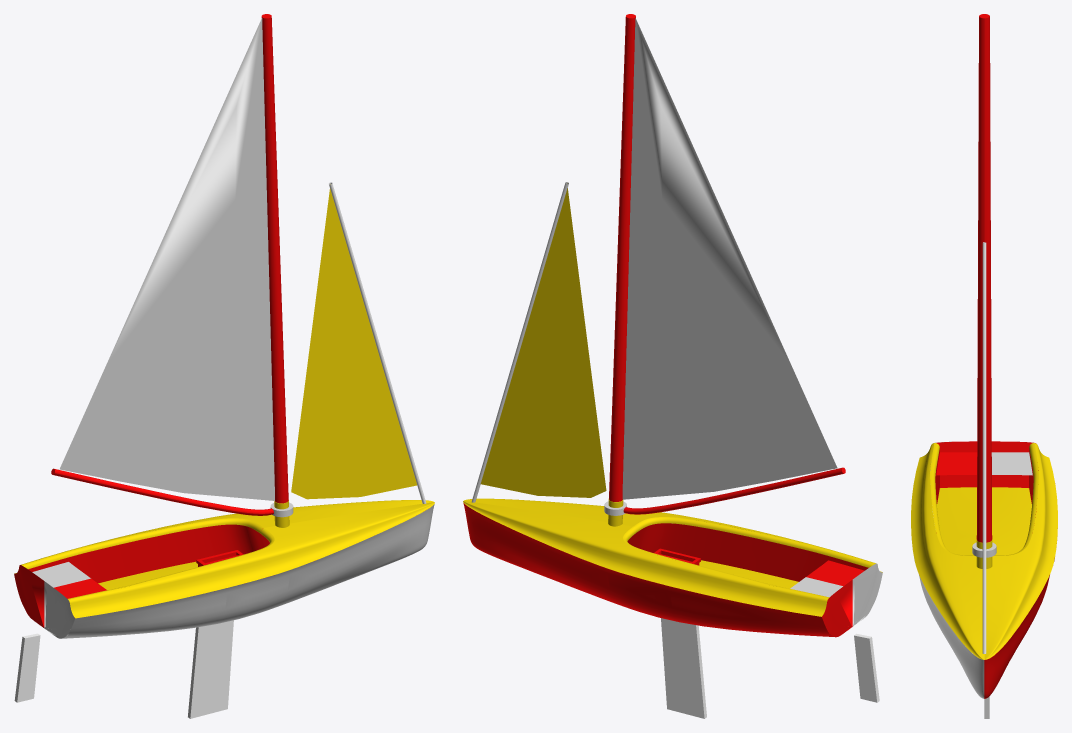
Rendered from sceneliberty.gltf.
3 views of the same model, side by side, from view 1: azimuth 30°, elevation 25°; view 2: azimuth 150°, elevation 25°; view 3: azimuth 270°, elevation 25° (orthographic). The views are drawn at different scales.
Visible parts, largest first — view 1: Mesh -- 0420b94e98fa61a1e9838248d7a602c6, Mesh -- 67c8a91203b5ac091744bc6840828669, IGES Sur -- 853b518b4bcc97214b0fdc9d8be5e40e, Brep -- 4e02e5dac0be5a86892bb88ad73f57e4, Brep -- 2e81701bc45a65f6fd2392773be394b9, Brep -- b1cf00b0dfbb862e0b44f7bf6317f90e, Brep -- 3195effea93f969dd9f6df79674ea2f5, Brep -- 137a2190e87ff8ee574379a11445ccc1, Brep -- 5f96dbc02be2b27622742f91a6268983, Brep -- a221ba2731e72f08ac7ecb54d2ac7a56, Brep -- 0a094c22bf033e1ff9d34b30a03eaa5f, Brep -- 765b0eb2c93993dbd328d9dfb580e3ba (+4 smaller); view 2: Mesh -- 0420b94e98fa61a1e9838248d7a602c6, Mesh -- 67c8a91203b5ac091744bc6840828669, IGES Sur -- f5b55b170a693edbb64e1a241c157387, Brep -- 137a2190e87ff8ee574379a11445ccc1, Brep -- 2e81701bc45a65f6fd2392773be394b9, Brep -- f929d332833acb7b1b96fe493bbde10a, Brep -- c48ec9ee9199a38f452de3ccfcd88e27, Brep -- 4e02e5dac0be5a86892bb88ad73f57e4, Brep -- 2a01ea757959710c99aa681a561d3c84, Brep -- a221ba2731e72f08ac7ecb54d2ac7a56, Brep -- 0a094c22bf033e1ff9d34b30a03eaa5f, Brep -- fd06c2bbea5b1eea8631799b42cb6205 (+4 smaller); view 3: Brep -- 4e02e5dac0be5a86892bb88ad73f57e4, Brep -- 137a2190e87ff8ee574379a11445ccc1, Brep -- 2e81701bc45a65f6fd2392773be394b9, Brep -- 34225f307685db423186f5f47b5f9e81, Brep -- 23d28b9b3a9f641d3317ce05279aa043, Brep -- 0a094c22bf033e1ff9d34b30a03eaa5f, IGES Sur -- f5b55b170a693edbb64e1a241c157387, IGES Sur -- 853b518b4bcc97214b0fdc9d8be5e40e, Brep -- df9af3e056e3c659690f055426bde9f3, Brep -- 384aca1f202c2463ffef94d0d88d4261, Brep -- 67e1b67bf5516830c3993682ae9f7696, Brep -- f791d1025e7a2754c4e4bc25f09e25a3 (+3 smaller).
Part boxes in pixels (box(x1,y1,x2,y2)): Mesh -- 0420b94e98fa61a1e9838248d7a602c6: box(59, 18, 274, 500); Mesh -- 67c8a91203b5ac091744bc6840828669: box(291, 184, 416, 499); IGES Sur -- 853b518b4bcc97214b0fdc9d8be5e40e: box(62, 504, 434, 638); Brep -- 4e02e5dac0be5a86892bb88ad73f57e4: box(68, 502, 434, 618); Brep -- 2e81701bc45a65f6fd2392773be394b9: box(261, 14, 288, 503); Brep -- b1cf00b0dfbb862e0b44f7bf6317f90e: box(28, 524, 264, 583); Brep -- 3195effea93f969dd9f6df79674ea2f5: box(188, 620, 233, 718); Brep -- 137a2190e87ff8ee574379a11445ccc1: box(15, 500, 433, 573); Brep -- 5f96dbc02be2b27622742f91a6268983: box(21, 518, 263, 569); Brep -- a221ba2731e72f08ac7ecb54d2ac7a56: box(51, 468, 273, 515); Brep -- 0a094c22bf033e1ff9d34b30a03eaa5f: box(329, 182, 426, 503); Brep -- 765b0eb2c93993dbd328d9dfb580e3ba: box(14, 633, 40, 702); Mesh -- 0420b94e98fa61a1e9838248d7a602c6: box(622, 18, 837, 499); Mesh -- 67c8a91203b5ac091744bc6840828669: box(480, 183, 606, 497); IGES Sur -- f5b55b170a693edbb64e1a241c157387: box(463, 503, 836, 637); Brep -- 137a2190e87ff8ee574379a11445ccc1: box(463, 501, 828, 616); Brep -- 2e81701bc45a65f6fd2392773be394b9: box(609, 14, 635, 501); Brep -- f929d332833acb7b1b96fe493bbde10a: box(633, 523, 868, 581); Brep -- c48ec9ee9199a38f452de3ccfcd88e27: box(661, 618, 704, 718); Brep -- 4e02e5dac0be5a86892bb88ad73f57e4: box(464, 498, 882, 572); Brep -- 2a01ea757959710c99aa681a561d3c84: box(633, 517, 875, 567); Brep -- a221ba2731e72f08ac7ecb54d2ac7a56: box(623, 467, 845, 514); Brep -- 0a094c22bf033e1ff9d34b30a03eaa5f: box(471, 182, 568, 502); Brep -- fd06c2bbea5b1eea8631799b42cb6205: box(852, 563, 882, 626); Brep -- 4e02e5dac0be5a86892bb88ad73f57e4: box(911, 443, 984, 659); Brep -- 137a2190e87ff8ee574379a11445ccc1: box(984, 443, 1057, 659); Brep -- 2e81701bc45a65f6fd2392773be394b9: box(976, 14, 992, 542); Brep -- 34225f307685db423186f5f47b5f9e81: box(937, 487, 976, 555); Brep -- 23d28b9b3a9f641d3317ce05279aa043: box(992, 487, 1031, 555); Brep -- 0a094c22bf033e1ff9d34b30a03eaa5f: box(982, 242, 986, 653); IGES Sur -- f5b55b170a693edbb64e1a241c157387: box(984, 511, 1054, 698); IGES Sur -- 853b518b4bcc97214b0fdc9d8be5e40e: box(914, 511, 984, 698); Brep -- df9af3e056e3c659690f055426bde9f3: box(991, 441, 1032, 487); Brep -- 384aca1f202c2463ffef94d0d88d4261: box(936, 441, 977, 487); Brep -- 67e1b67bf5516830c3993682ae9f7696: box(991, 452, 1032, 475); Brep -- f791d1025e7a2754c4e4bc25f09e25a3: box(936, 452, 977, 475).
Size of the model in its own units: 3.83 by 6 by 1.11.
